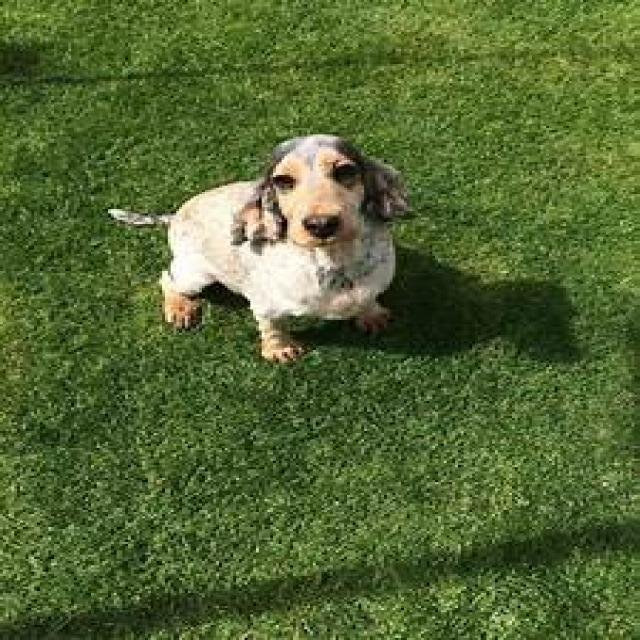animal: (114, 134, 416, 356)
